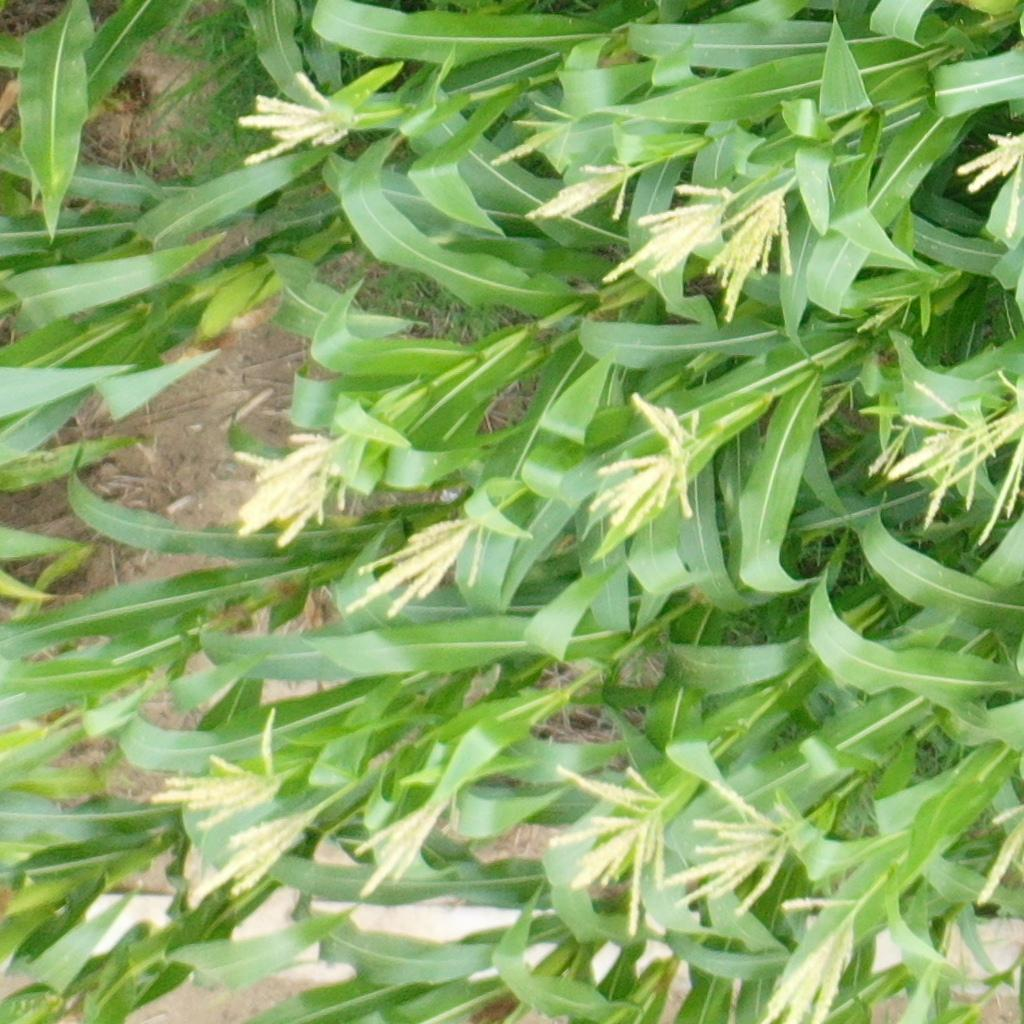Tassel: (548, 757, 673, 937), (905, 366, 1024, 544), (658, 774, 803, 914), (586, 388, 713, 541), (146, 704, 283, 829), (228, 431, 361, 550), (348, 515, 494, 623), (885, 375, 985, 529), (764, 890, 871, 1024), (605, 181, 743, 284), (195, 806, 316, 912), (704, 187, 799, 321), (231, 73, 358, 166), (356, 795, 448, 901), (957, 129, 1024, 242), (526, 160, 645, 221), (490, 99, 578, 169), (971, 799, 1023, 907), (854, 291, 918, 336), (869, 418, 912, 478)
